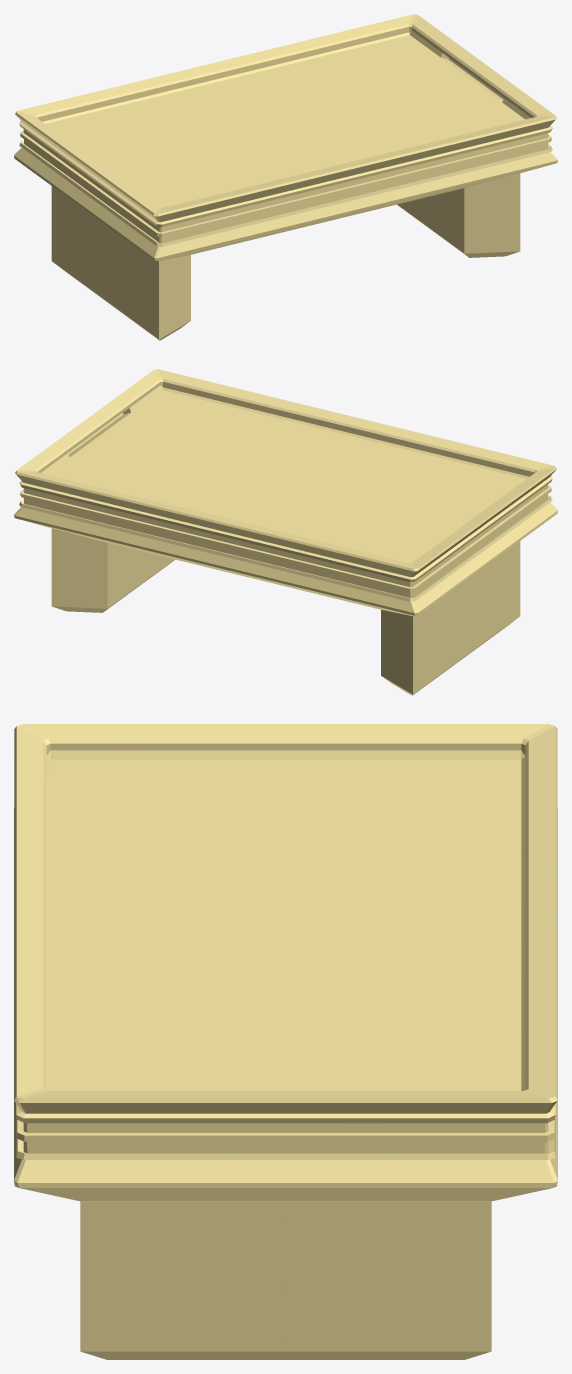
Rendered from hockeyrink.glb.
3 views of the same model, one above another, from view 1: azimuth 30°, elevation 25°; view 2: azimuth 150°, elevation 25°; view 3: azimuth 270°, elevation 25° (orthographic). The views are drawn at different scales.
Visible parts, largest first — view 1: node_id5; view 2: node_id5; view 3: node_id5.
Boxes of the visible parts, box(x1,y1,x2,y2) form: node_id5: box(14, 14, 557, 340); node_id5: box(14, 369, 557, 695); node_id5: box(14, 724, 557, 1359).
Bounding box in the file's own units: 0.512 × 0.1821 × 0.3123.
Materials: 1 (1 with a texture image).
